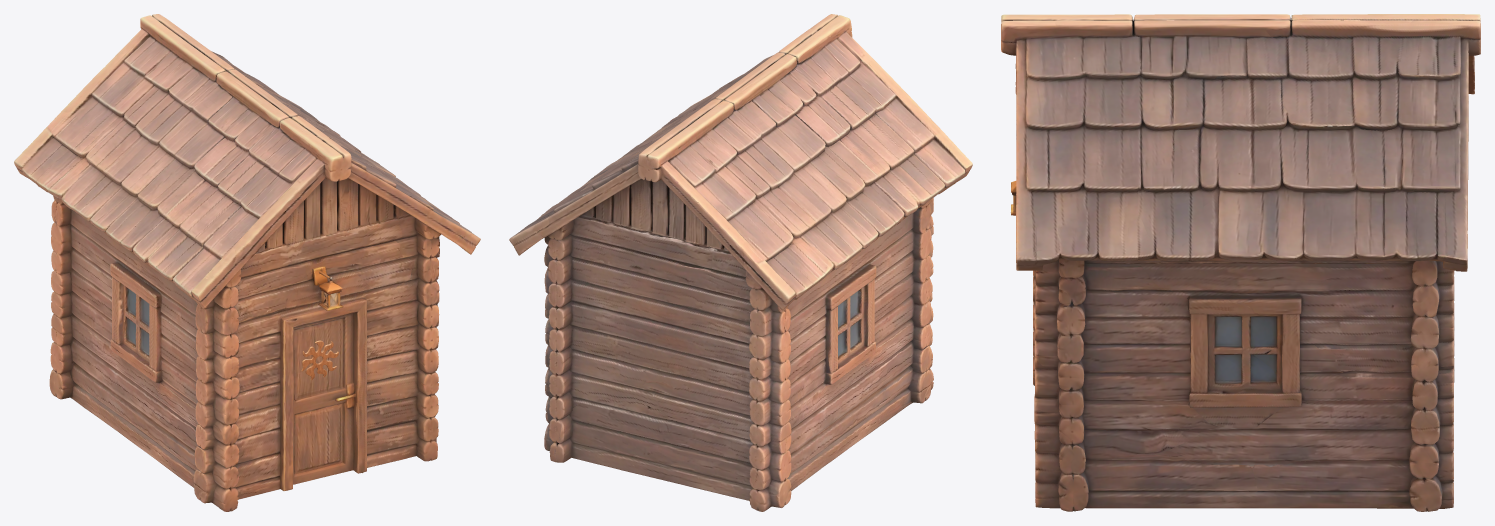
Rendered from cabin_custom.glb.
3 renders of one model, left to right at view 1: azimuth 30°, elevation 25°; view 2: azimuth 150°, elevation 25°; view 3: azimuth 270°, elevation 25°, orthographic. The views are drawn at different scales.
Visible parts, largest first — view 1: cabin, model; view 2: cabin; view 3: cabin.
Part boxes in pixels (x1=…): cabin: x1=14, y1=14, x2=480, y2=511; model: x1=301, y1=340, x2=338, y2=380; cabin: x1=509, y1=14, x2=972, y2=511; cabin: x1=1001, y1=14, x2=1480, y2=511.
Size of the model in its own units: 1.61 by 1.86 by 1.9.
2 materials, 2 textured.
